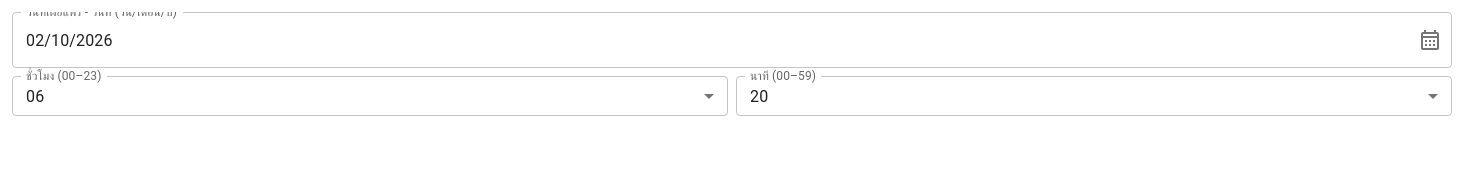
Test: AdminDateTimeField › rejects an invalid day/month/year date and restores the canonical display on blur
Step 1. Replace the text in the field labelled "วันที่เผยแพร่ - วันที่ (วัน/เดือน/ปี)" with "31/02/2026" → (707, 40), box [12,12,1402,68]
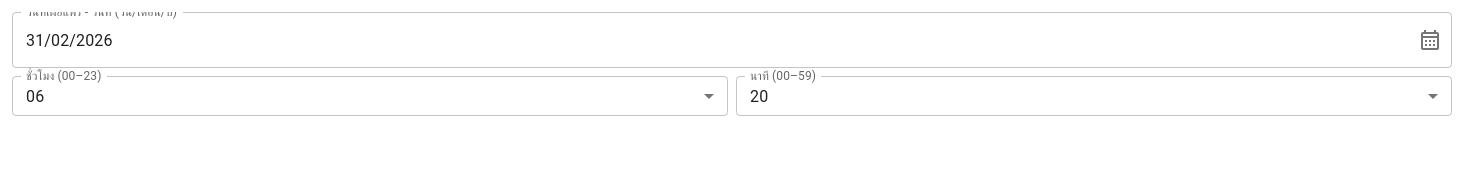
Step 2. Leave the field labelled "วันที่เผยแพร่ - วันที่ (วัน/เดือน/ปี)", box [12,12,1402,68]
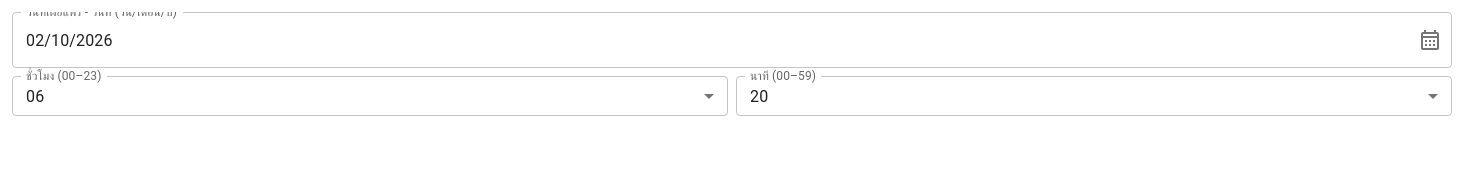
Expected: the field labelled "วันที่เผยแพร่ - วันที่ (วัน/เดือน/ปี)" holds "02/10/2026", [12,12,1402,68]
